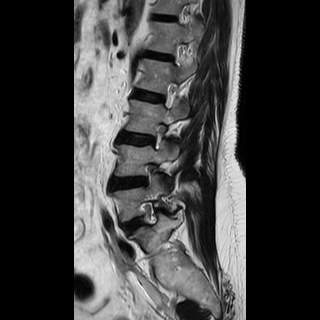LFS0: (153, 75, 179, 114), (137, 196, 162, 231)
LFS1: (147, 118, 173, 157)
LFS3: (139, 157, 164, 192)
